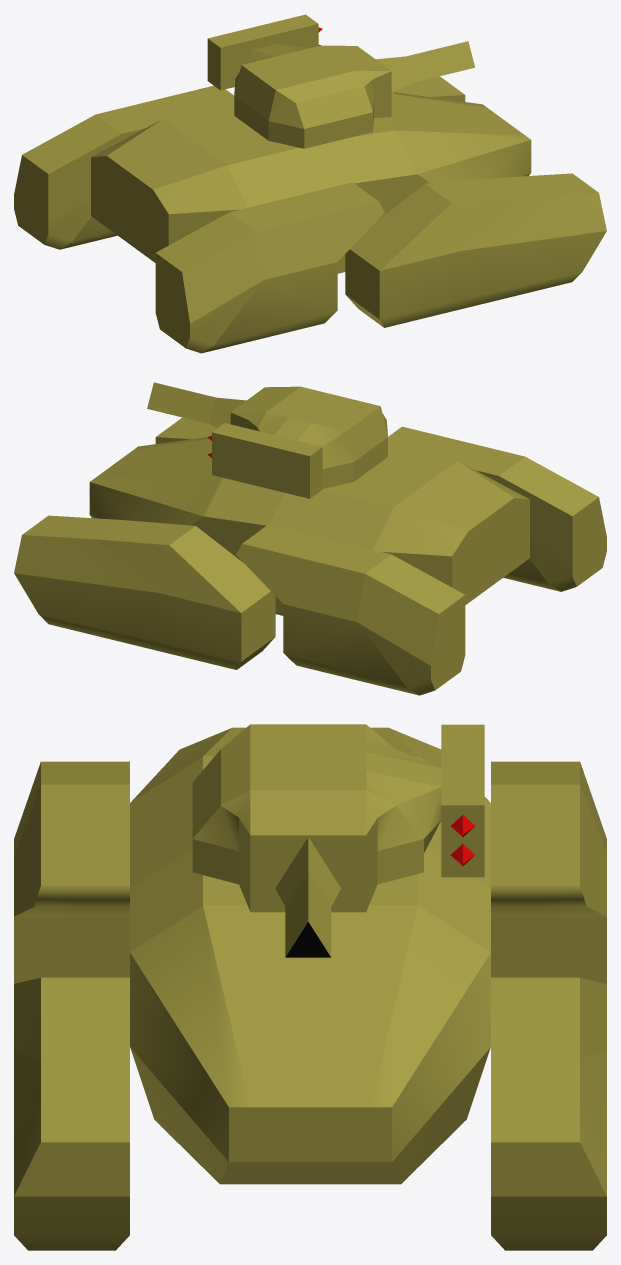
Rendered from playerTank03.fbx.
3 views of the same model, one above another, from view 1: azimuth 30°, elevation 25°; view 2: azimuth 150°, elevation 25°; view 3: azimuth 270°, elevation 25° (orthographic). The views are drawn at different scales.
Parts seen in each view (by area): view 1: playerTank3; view 2: playerTank3; view 3: playerTank3.
Part boxes in pixels (bbox=[...]): playerTank3: bbox=[14, 14, 606, 353]; playerTank3: bbox=[14, 382, 606, 695]; playerTank3: bbox=[14, 724, 606, 1250].
Bounding box in the file's own units: 173 × 79.49 × 127.
